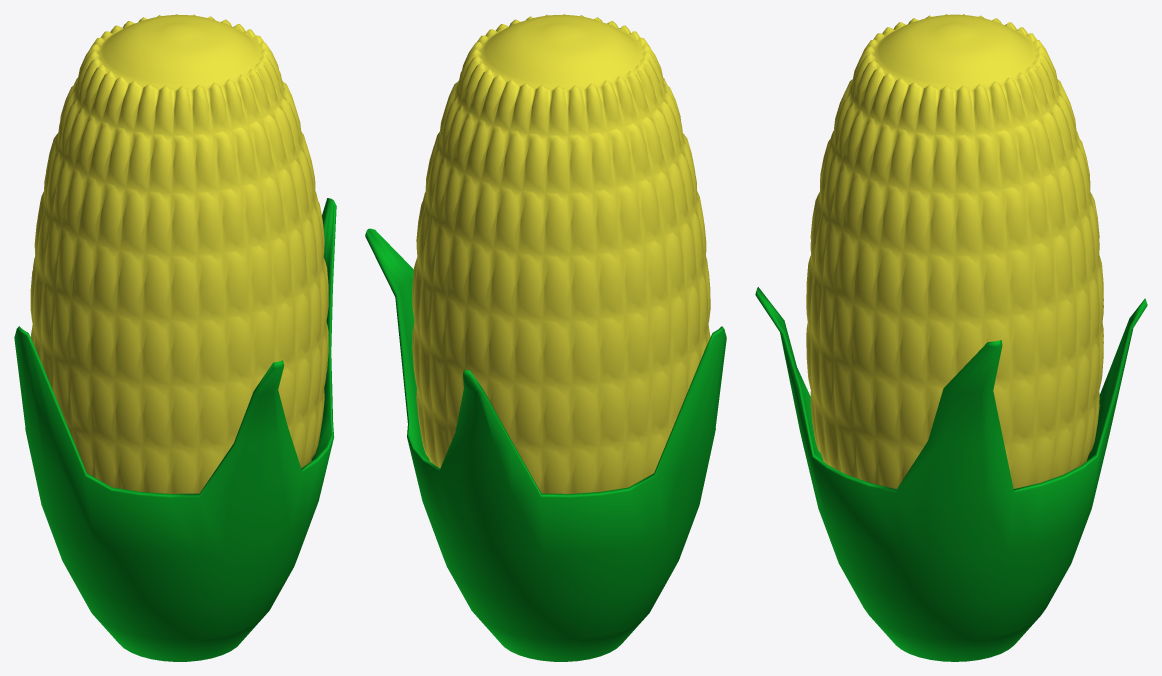
File: Corn.fbx
The picture shows the model from 3 angles, left to right: view 1: azimuth 30°, elevation 25°; view 2: azimuth 150°, elevation 25°; view 3: azimuth 270°, elevation 25°; orthographic projection.
Visible parts, largest first — view 1: Sphere; view 2: Sphere; view 3: Sphere.
Part boxes in pixels (x1,y1,x2,y2): Sphere: (14,14,336,661); Sphere: (365,14,726,661); Sphere: (755,14,1147,661).
Bounding box in the file's own units: 122 × 216 × 124.
